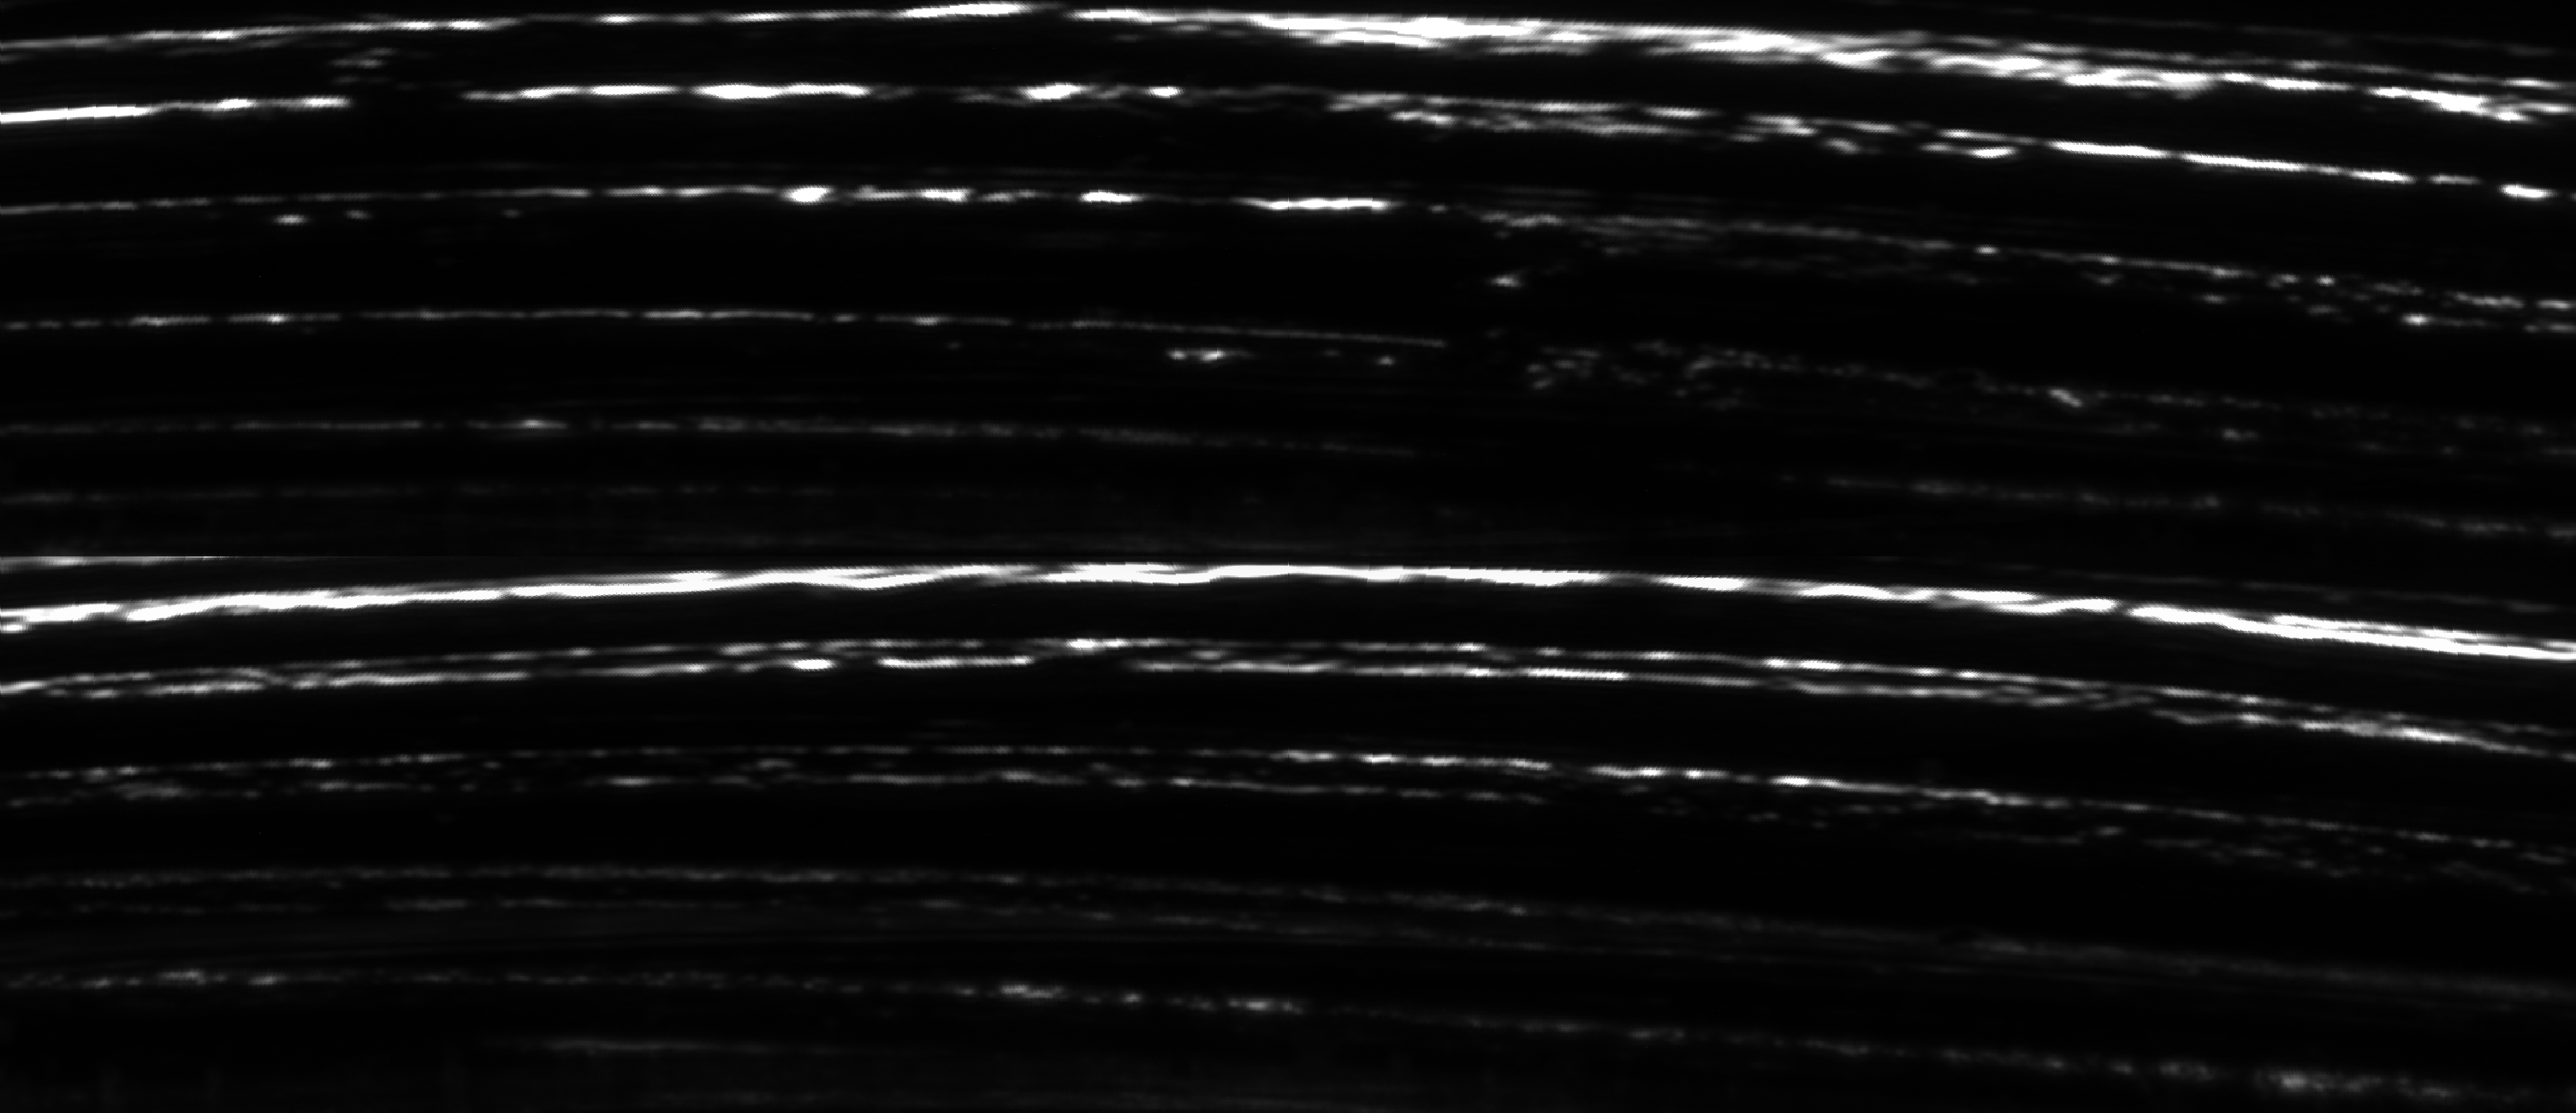corrosion: (1497, 309, 1850, 437), (1444, 176, 1801, 301)
extensive chipped: (3, 97, 2576, 613), (33, 641, 2576, 1113)
